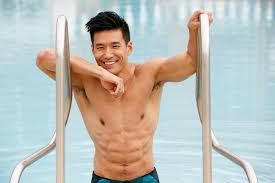asian_male: (67, 9, 148, 78)
